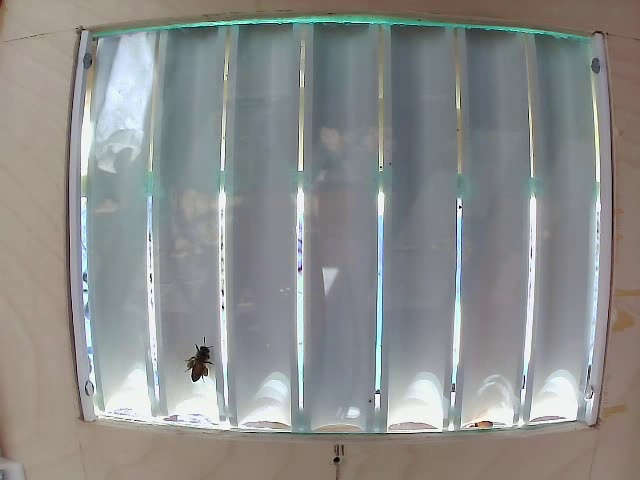bee: (174, 341, 212, 387)
